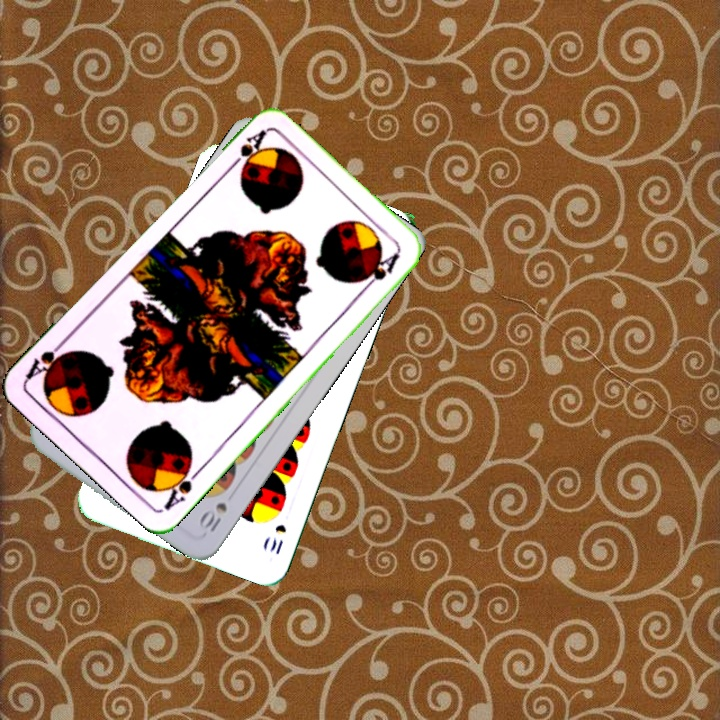S10: (194, 498, 230, 535), (265, 520, 289, 557)
SA: (160, 457, 205, 513), (223, 125, 269, 174)
